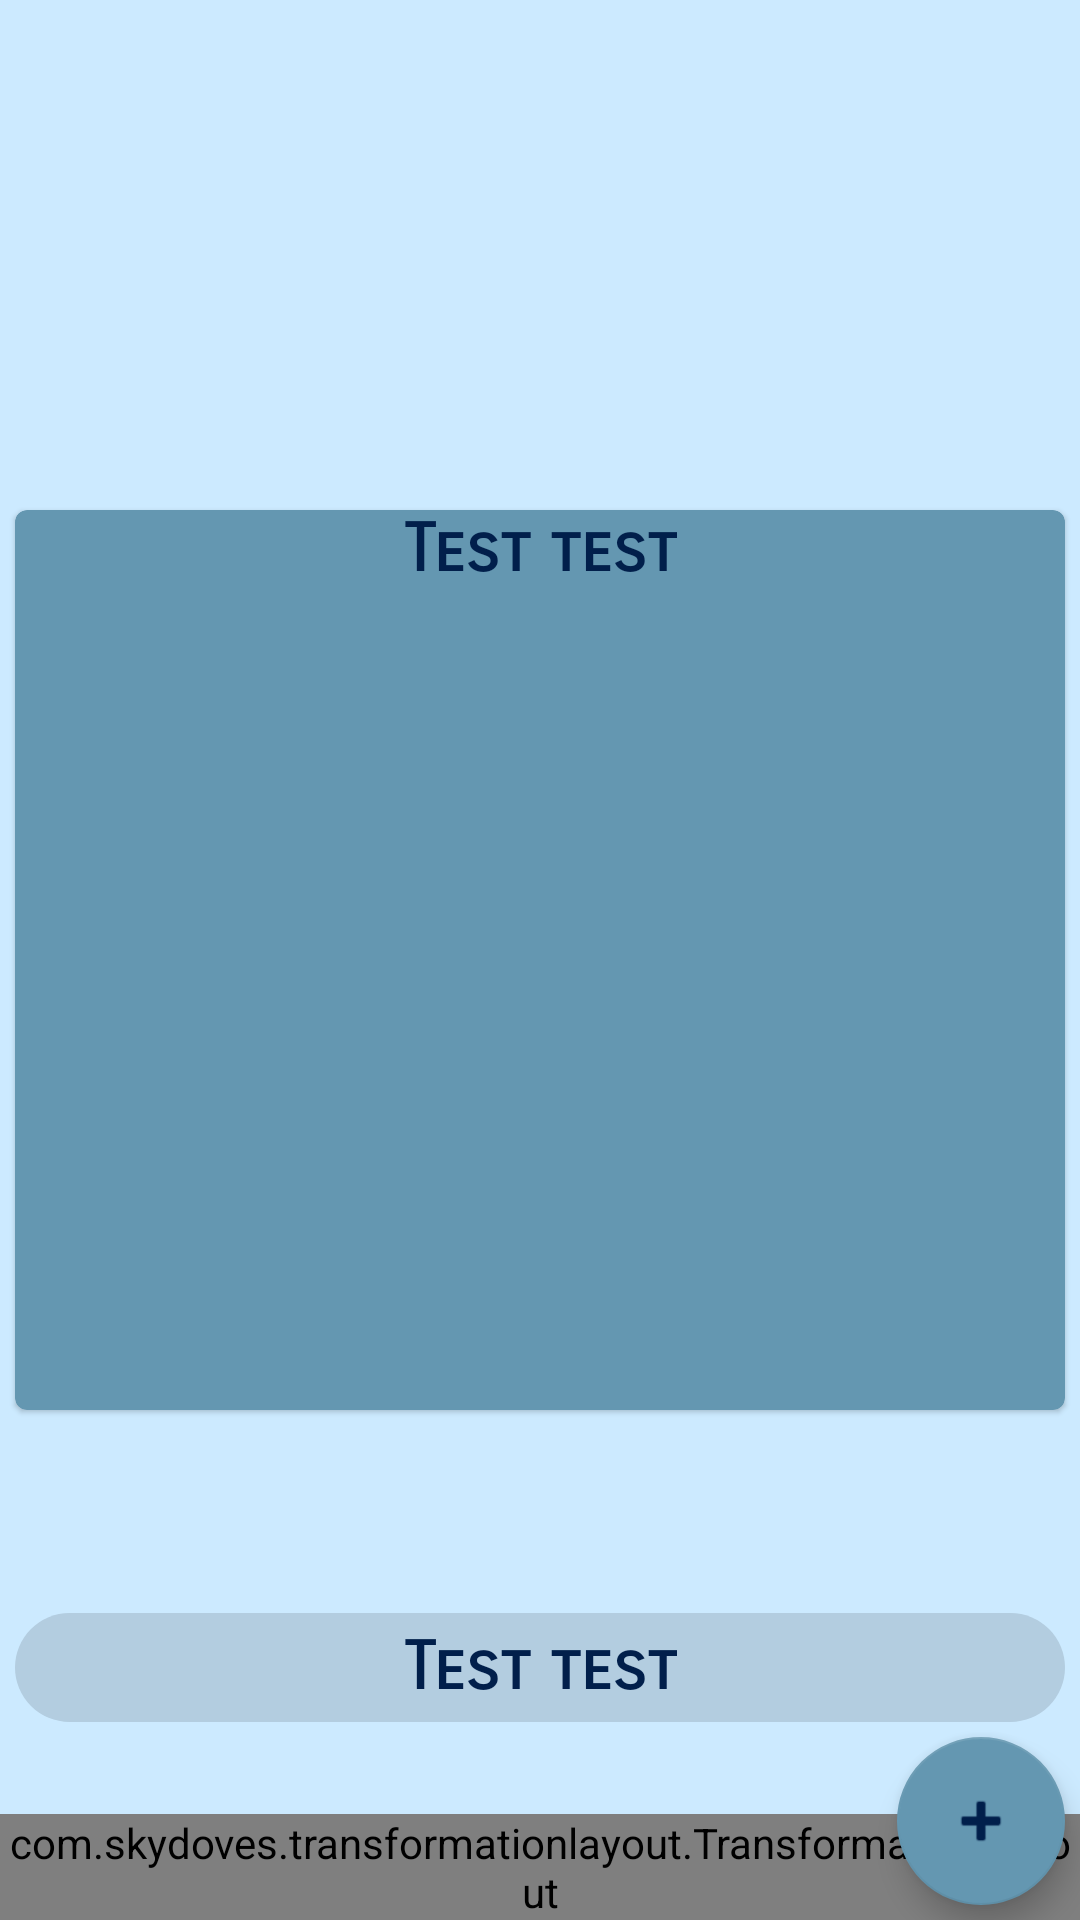

Where to tap for icons on this 1080w x 1920h app screen, as [x,y]:
Add new recipe: [981,1821]
